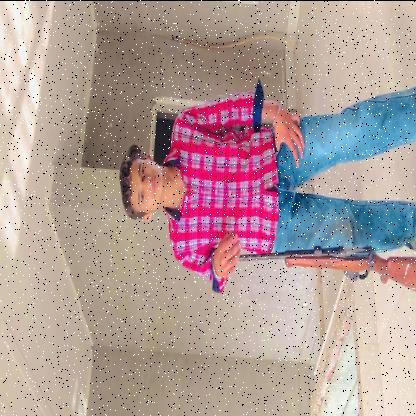rifle: (221, 237, 415, 287)
